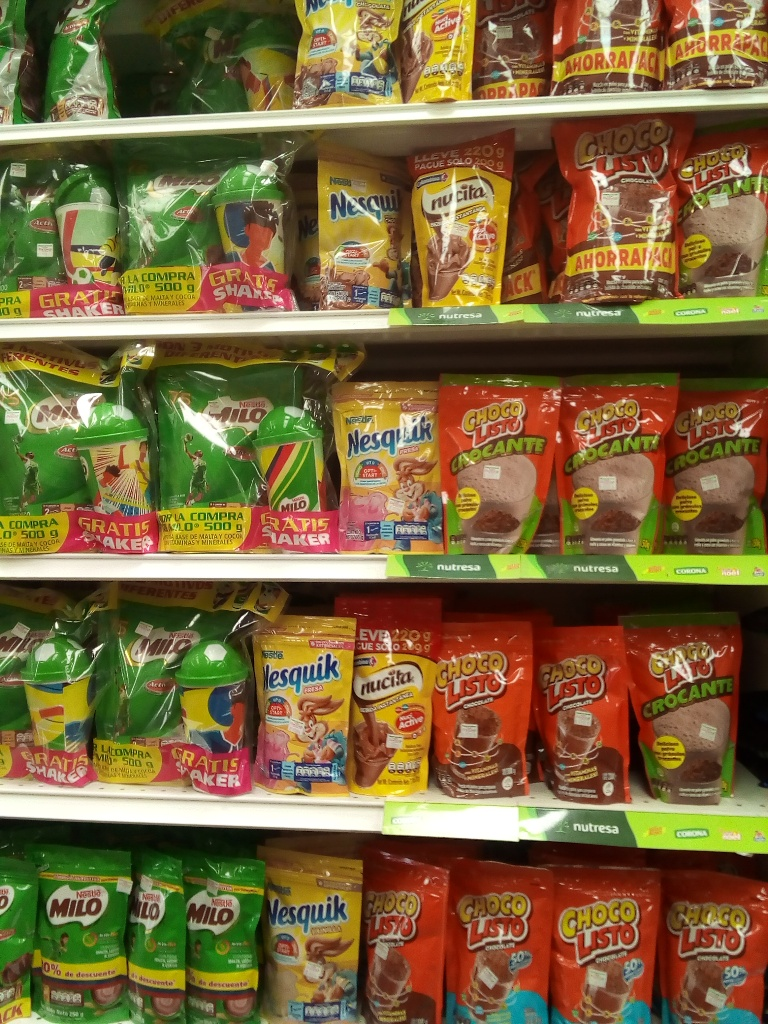COL0170102DYP25000: (628, 601, 754, 802)
COL0170102DYP50000: (678, 120, 768, 297)
COL0170103DYP44000: (542, 110, 680, 302)
COL0170104DYP20000: (449, 862, 563, 1024)
COL0170203DYP25000: (187, 854, 262, 1021)
COL0170203DYP50000: (91, 596, 190, 742)
COL0170205DYP50000: (34, 1, 127, 120)
COL0170303DYP20000: (305, 139, 414, 312)
COL0170305DYP20000: (242, 608, 346, 792)
COL0170306DYP20000: (256, 843, 369, 1024)
